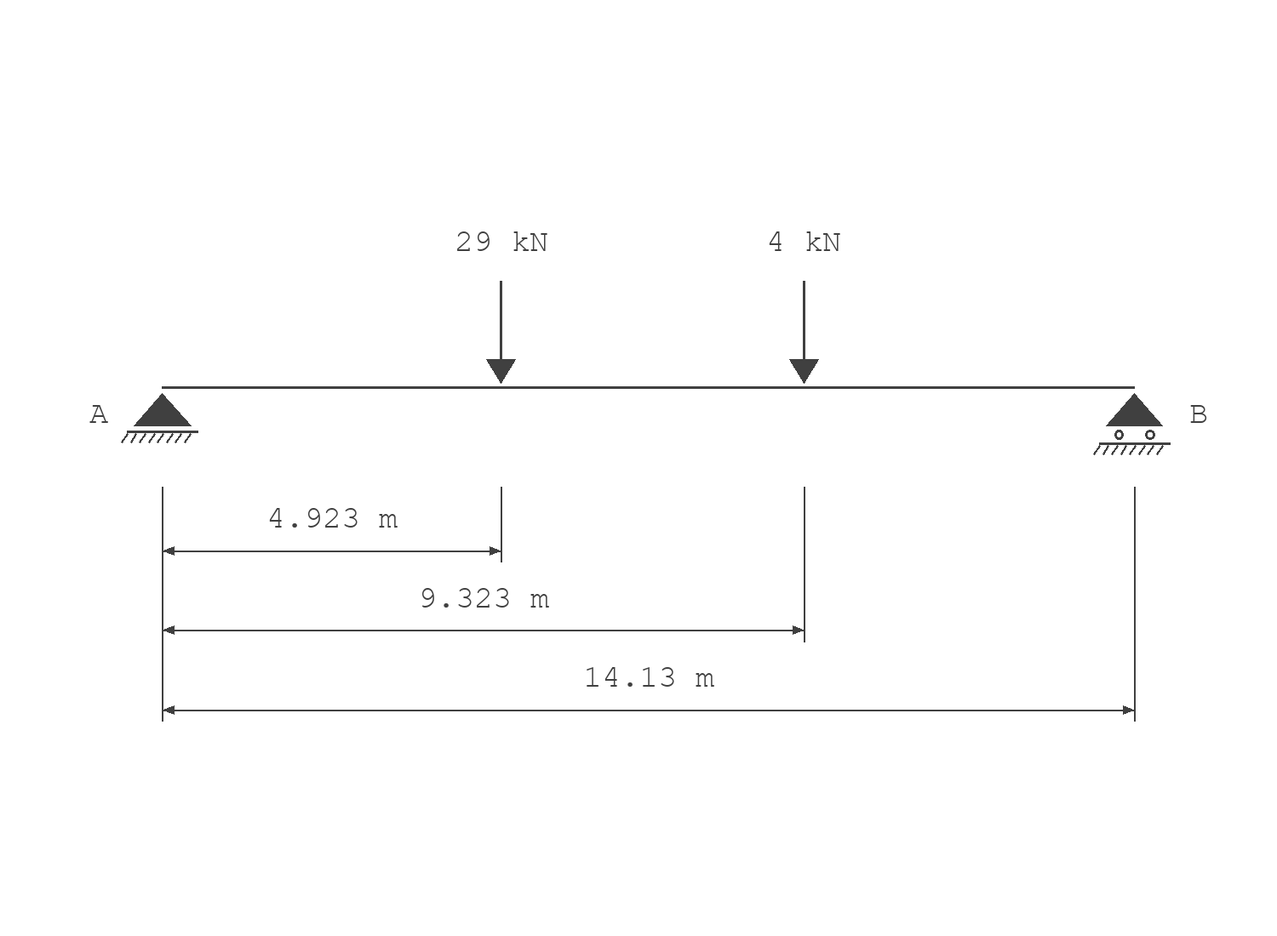pin_support: (121, 393, 198, 443)
point_load: (486, 281, 516, 384), (789, 281, 819, 384)
roller_support: (1093, 393, 1171, 455)
